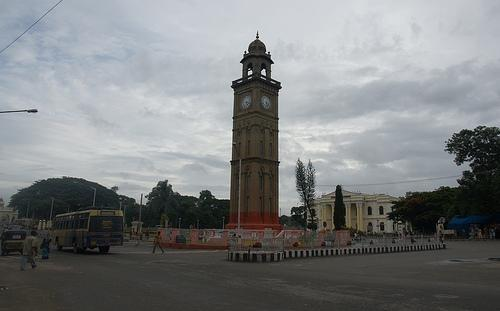bus: (52, 207, 124, 253)
car: (12, 224, 20, 230)
